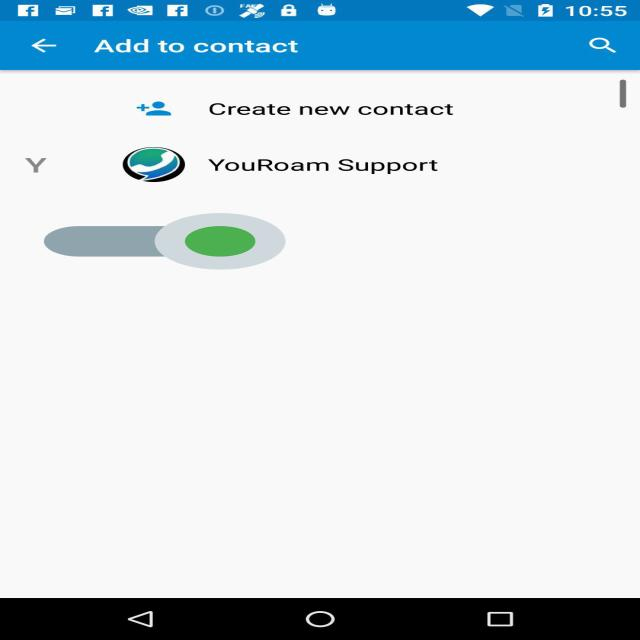social proof: (44, 189, 286, 294)
